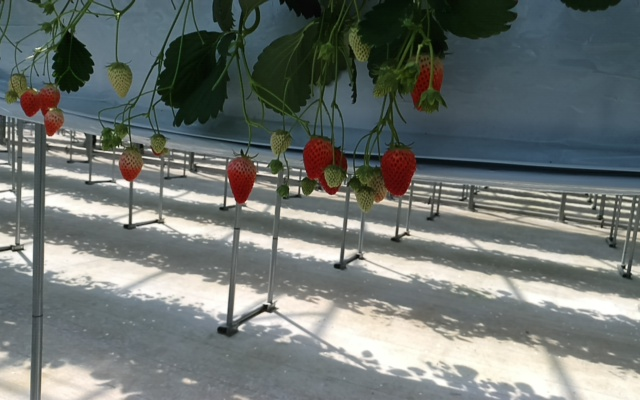GreenStrawberry: (345, 20, 374, 62), (357, 165, 389, 203), (105, 62, 134, 99), (117, 146, 144, 182), (6, 73, 29, 101), (352, 187, 376, 213), (269, 129, 291, 156), (324, 165, 344, 190), (149, 133, 167, 156)
MatureStrawberry: (404, 52, 444, 113), (380, 141, 417, 200), (314, 145, 348, 196), (225, 154, 258, 204), (301, 133, 334, 181), (36, 82, 62, 117), (17, 89, 43, 118), (44, 108, 64, 137)
